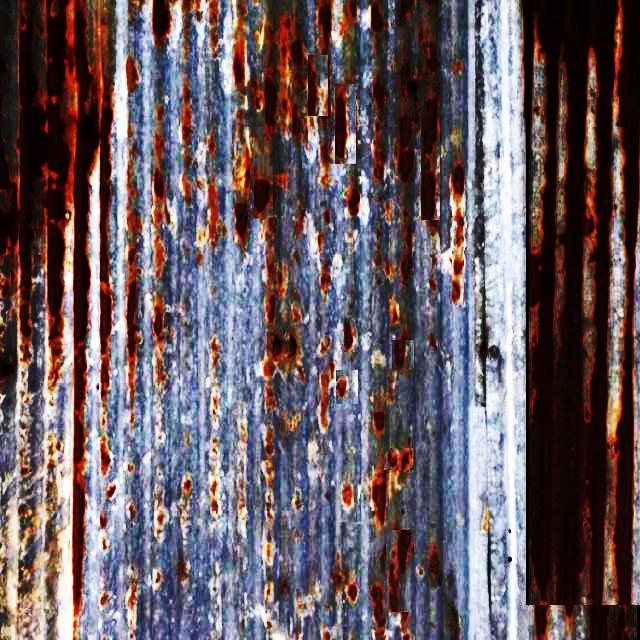Corrosion: (528, 255, 583, 600), (589, 0, 639, 319), (72, 0, 109, 430), (44, 0, 76, 178), (556, 106, 585, 280), (546, 14, 567, 101), (371, 472, 386, 527), (423, 98, 438, 152), (422, 172, 435, 218), (549, 122, 557, 149)
